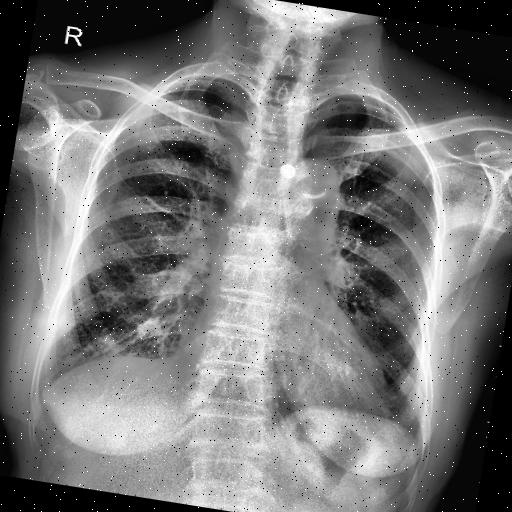0- Aortic enlargement: (278, 152, 340, 212), (286, 154, 347, 212), (282, 154, 340, 210)
3- Cardiomegaly: (162, 324, 390, 430), (176, 315, 396, 417), (172, 336, 396, 414)
